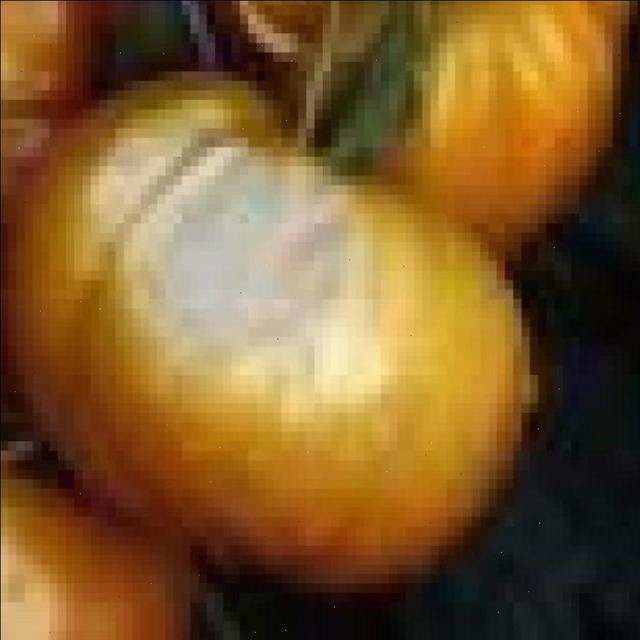Sunscald Fruit: (60, 82, 259, 278)
